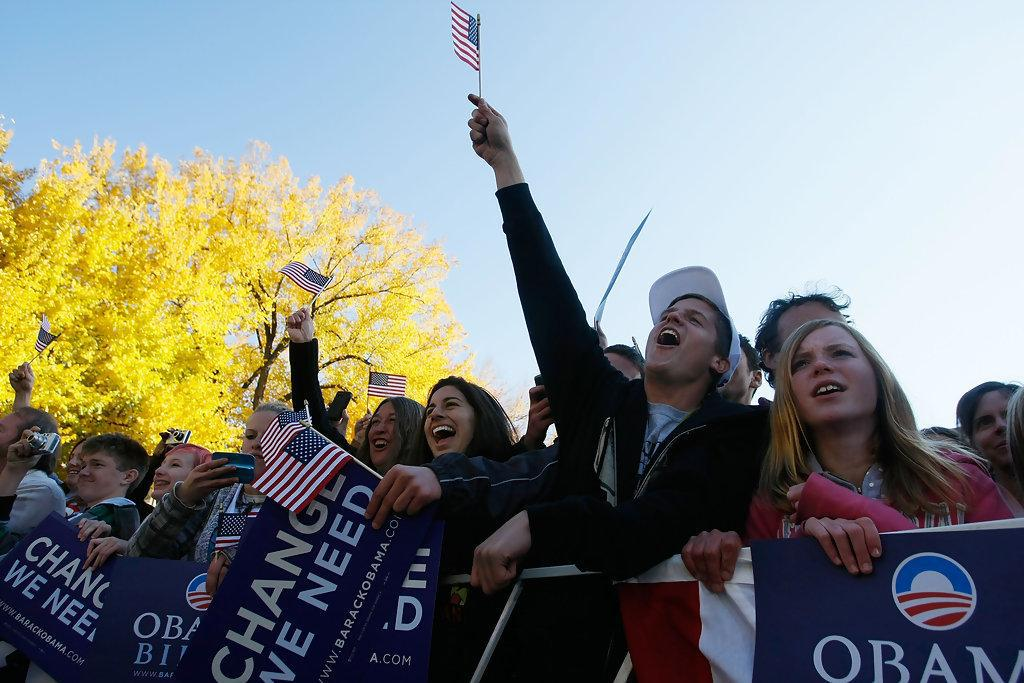face: (789, 334, 880, 425), (646, 294, 715, 377), (422, 390, 489, 464), (970, 390, 1024, 462), (241, 419, 301, 478), (370, 401, 420, 467), (78, 450, 124, 503), (153, 451, 201, 499), (66, 446, 105, 492), (1, 415, 32, 472)
